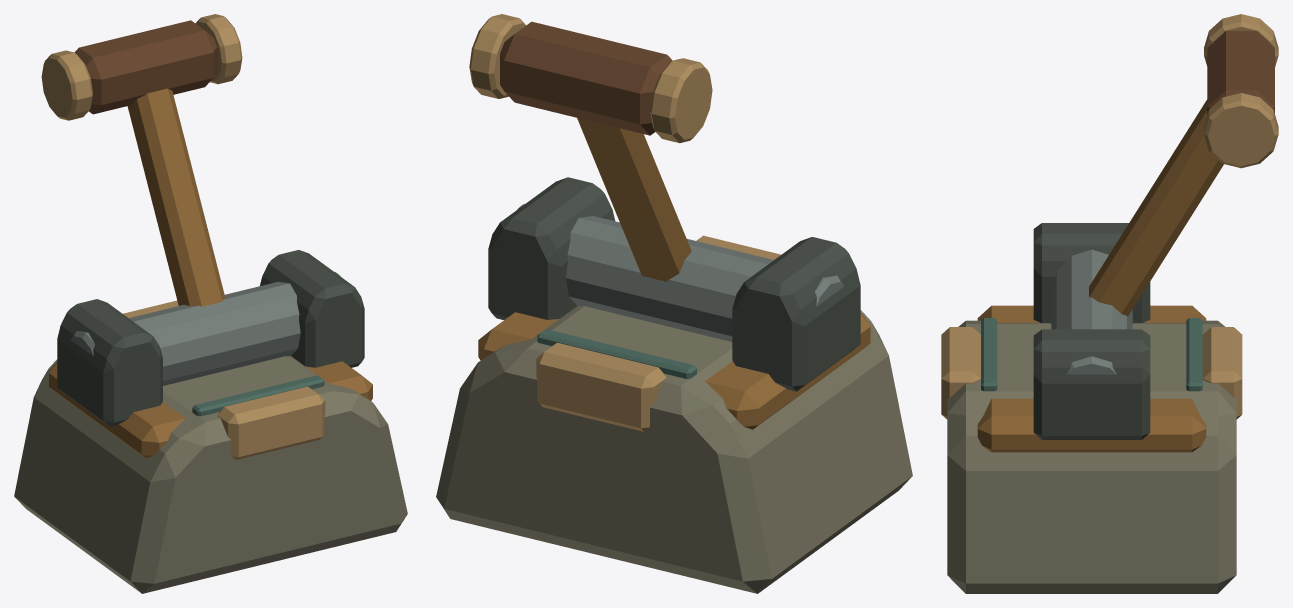
Rendered from VAULT_LEVER.lo.glb.
The picture shows the model from 3 angles, left to right: view 1: azimuth 30°, elevation 25°; view 2: azimuth 150°, elevation 25°; view 3: azimuth 270°, elevation 25°; orthographic projection. The views are drawn at different scales.
Visible parts, largest first — view 1: Body_Mesh, LeverPivot_Mesh; view 2: Body_Mesh, LeverPivot_Mesh; view 3: Body_Mesh, LeverPivot_Mesh.
Part boxes in pixels (left/top/right/bottom): Body_Mesh: left=14, top=250, right=407, bottom=593; LeverPivot_Mesh: left=41, top=14, right=242, bottom=306; Body_Mesh: left=436, top=177, right=912, bottom=593; LeverPivot_Mesh: left=469, top=14, right=712, bottom=281; Body_Mesh: left=941, top=223, right=1242, bottom=593; LeverPivot_Mesh: left=1089, top=14, right=1278, bottom=316.
Bounding box in the file's own units: 0.7429 × 1.11 × 0.7225.
